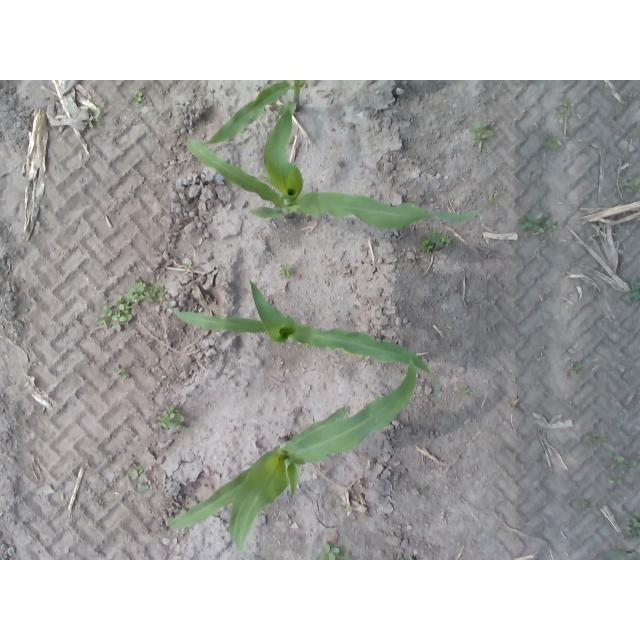Maize: (166, 360, 418, 556), (187, 103, 497, 229), (170, 280, 439, 409), (199, 80, 307, 146)
Weeds: (96, 295, 132, 333), (125, 281, 167, 304), (420, 227, 453, 253), (515, 213, 546, 236), (156, 406, 184, 430), (607, 450, 638, 470), (314, 540, 341, 560), (602, 548, 640, 560), (469, 122, 493, 141), (625, 508, 640, 536), (85, 108, 105, 129), (123, 462, 145, 480), (556, 98, 573, 118), (623, 178, 640, 194), (130, 90, 146, 106), (544, 135, 561, 150), (627, 281, 640, 300), (591, 434, 610, 447), (569, 362, 583, 377), (279, 264, 293, 278), (118, 367, 131, 380), (547, 220, 558, 233), (606, 476, 623, 484), (182, 261, 194, 272), (458, 386, 470, 395), (580, 499, 588, 509), (341, 552, 351, 560), (405, 554, 415, 560), (343, 506, 353, 512), (161, 373, 167, 381)
